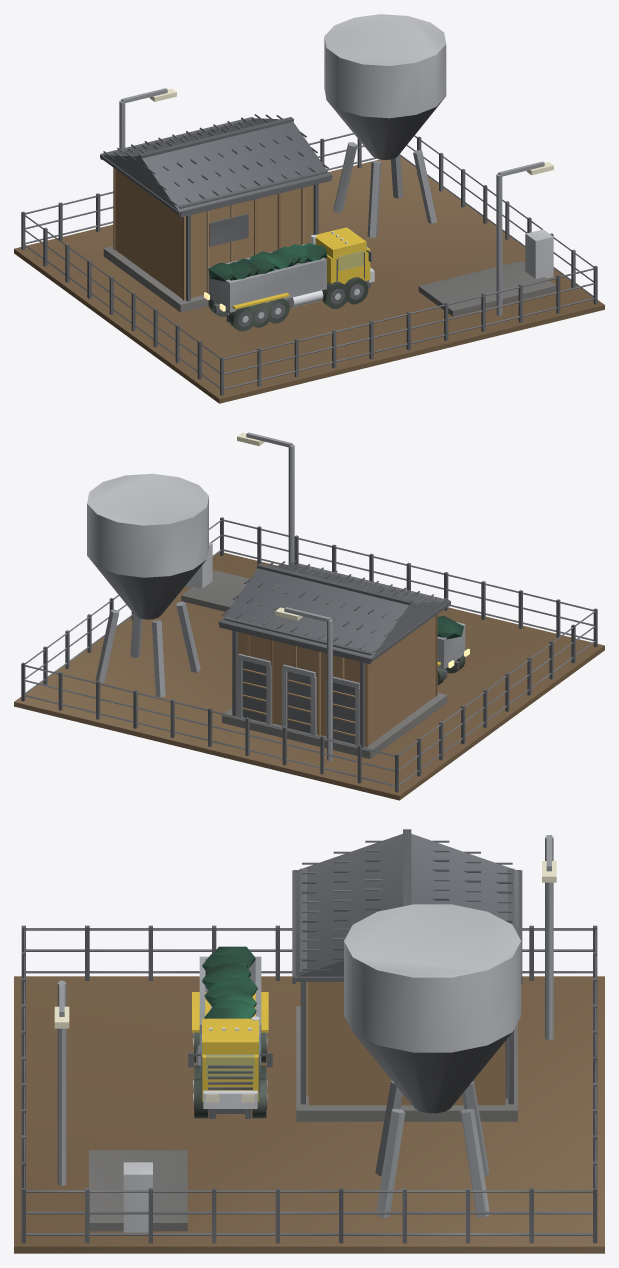
Rendered from Haul_P1.fbx.
3 views of the same model, one above another, from view 1: azimuth 30°, elevation 25°; view 2: azimuth 150°, elevation 25°; view 3: azimuth 270°, elevation 25° (orthographic). The views are drawn at different scales.
Visible parts, largest first — view 1: Haul.Yard, Haul.Workshop, Haul.Hopper, Haul.Parked0, Haul.Fence, Haul.Weighbridge, Haul.Lamp0, Haul.Lamp1; view 2: Haul.Yard, Haul.Workshop, Haul.Hopper, Haul.Fence, Haul.Weighbridge, Haul.Parked0, Haul.Lamp1, Haul.Lamp0; view 3: Haul.Yard, Haul.Hopper, Haul.Workshop, Haul.Fence, Haul.Parked0, Haul.Weighbridge, Haul.Lamp0, Haul.Lamp1.
Part boxes in pixels (bbox=[...]): Haul.Yard: bbox=[14, 156, 604, 403]; Haul.Workshop: bbox=[100, 114, 332, 312]; Haul.Hopper: bbox=[324, 14, 446, 237]; Haul.Parked0: bbox=[204, 227, 374, 331]; Haul.Fence: bbox=[21, 133, 597, 395]; Haul.Weighbridge: bbox=[418, 229, 556, 316]; Haul.Lamp0: bbox=[496, 161, 553, 315]; Haul.Lamp1: bbox=[119, 88, 176, 148]; Haul.Yard: bbox=[14, 552, 604, 800]; Haul.Workshop: bbox=[218, 560, 450, 758]; Haul.Hopper: bbox=[87, 473, 208, 697]; Haul.Fence: bbox=[21, 517, 597, 792]; Haul.Weighbridge: bbox=[181, 542, 249, 611]; Haul.Parked0: bbox=[437, 616, 469, 685]; Haul.Lamp1: bbox=[275, 607, 332, 761]; Haul.Lamp0: bbox=[237, 432, 294, 564]; Haul.Yard: bbox=[14, 976, 604, 1253]; Haul.Hopper: bbox=[344, 904, 521, 1217]; Haul.Workshop: bbox=[292, 829, 522, 1121]; Haul.Fence: bbox=[21, 925, 597, 1243]; Haul.Parked0: bbox=[188, 946, 272, 1118]; Haul.Weighbridge: bbox=[89, 1150, 187, 1232]; Haul.Lamp0: bbox=[54, 980, 69, 1185]; Haul.Lamp1: bbox=[542, 835, 556, 1040].
Size of the model in its own units: 2600 by 1167 by 2400.
